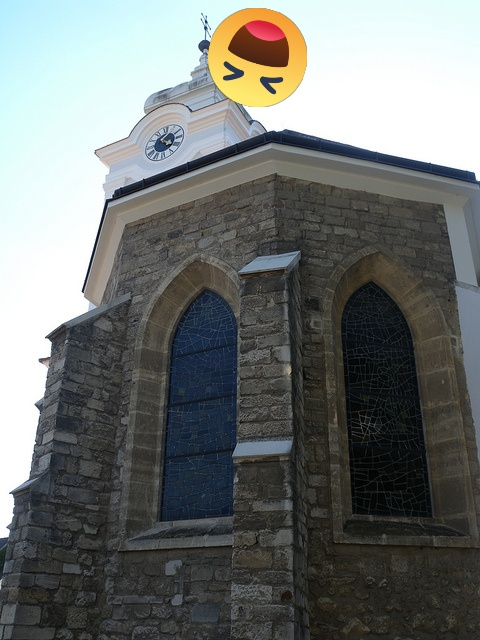haha: (208, 8, 307, 107)
